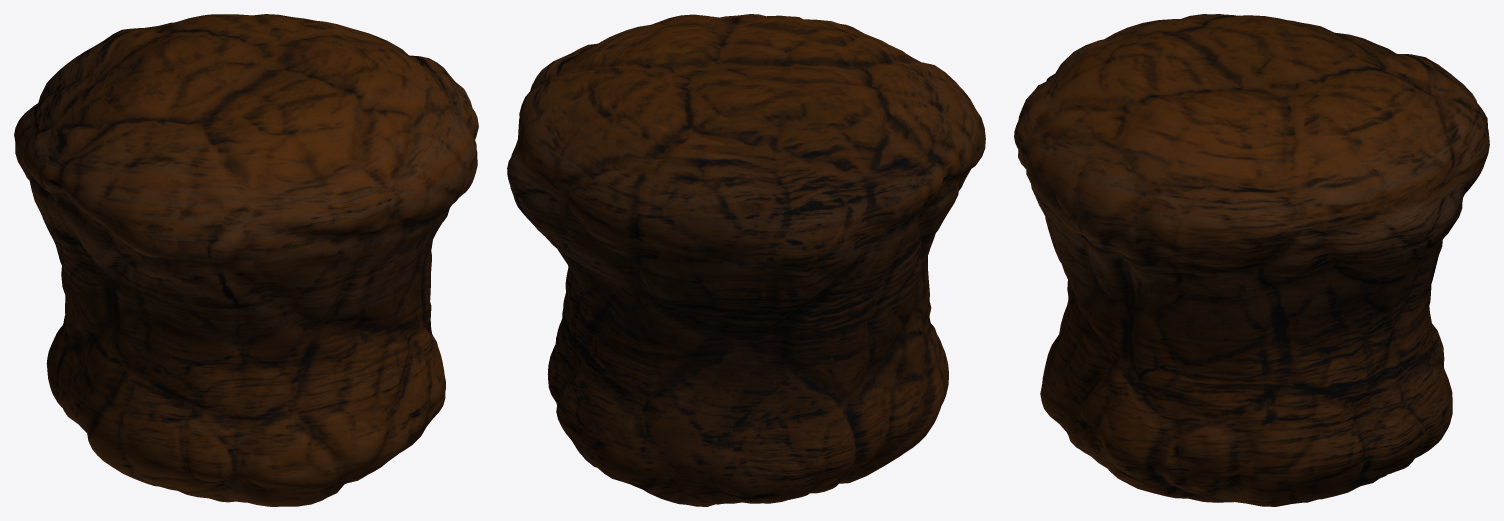
The model's file is rock2.glb.
3 views of the same model, side by side, from view 1: azimuth 30°, elevation 25°; view 2: azimuth 150°, elevation 25°; view 3: azimuth 270°, elevation 25° (orthographic). The views are drawn at different scales.
Visible parts, largest first — view 1: Rock1; view 2: Rock1; view 3: Rock1.
Boxes of the visible parts, x1=… form: Rock1: x1=14, y1=14, x2=478, y2=506; Rock1: x1=507, y1=14, x2=985, y2=506; Rock1: x1=1014, y1=14, x2=1489, y2=506.
Bounding box in the file's own units: 8.69 × 8.53 × 8.74.
1 material, 1 textured.
